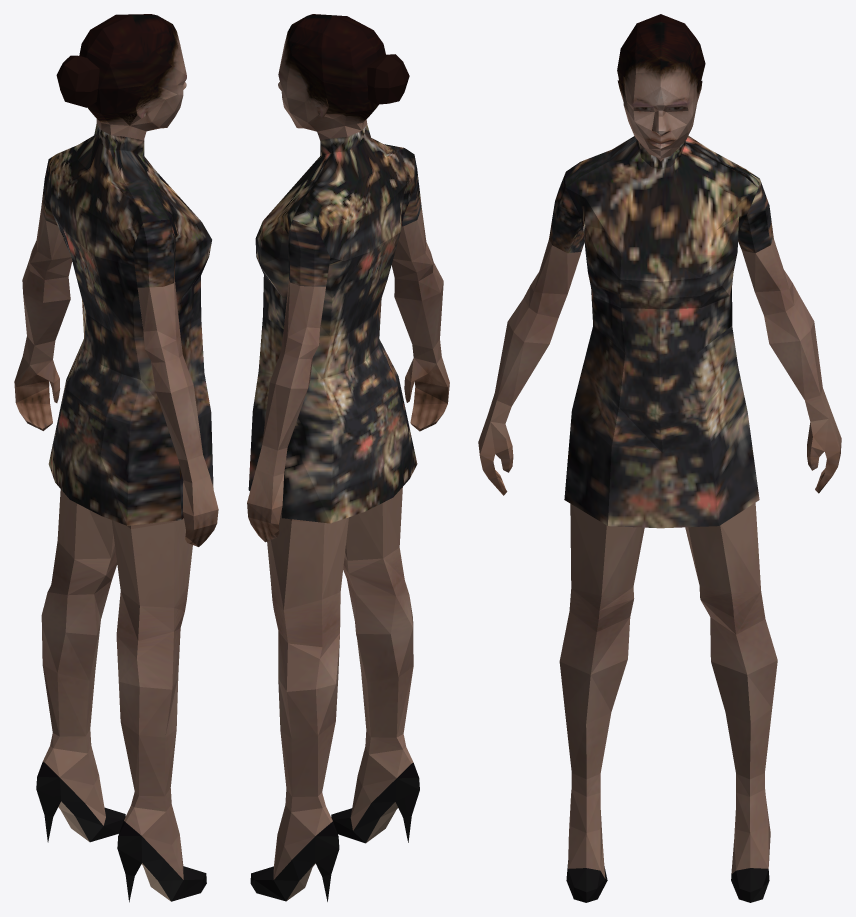
The model's file is vwfywa2.obj.
The picture shows the model from 3 angles, left to right: view 1: azimuth 30°, elevation 25°; view 2: azimuth 150°, elevation 25°; view 3: azimuth 270°, elevation 25°; orthographic projection. The views are drawn at different scales.
Visible parts, largest first — view 1: _Pelvis; view 2: _Pelvis; view 3: _Pelvis.
Boxes of the visible parts, x1,y1,x2,y2 form: _Pelvis: (14, 14, 218, 902); _Pelvis: (247, 14, 449, 901); _Pelvis: (478, 14, 841, 902).
Bounding box in the file's own units: 0.3027 × 1.8 × 0.6856.
1 material, 1 textured.
